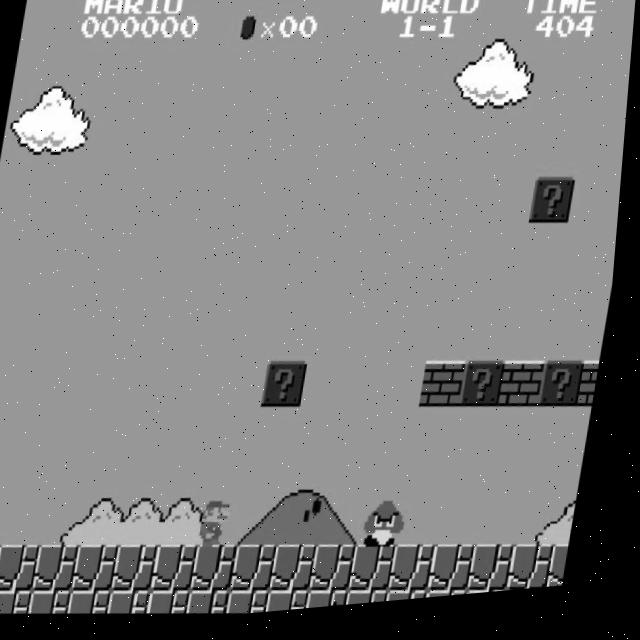1- brick_block: (425, 366, 473, 418), (504, 368, 552, 420), (584, 371, 606, 419)
11- little_mario: (196, 499, 246, 556)
13- mystery_block: (464, 367, 513, 419), (267, 363, 315, 415), (532, 184, 580, 236), (544, 368, 592, 420)
17- undestructible_block: (318, 548, 367, 600), (397, 550, 446, 602), (160, 545, 208, 598), (437, 550, 485, 603), (1, 543, 49, 595), (41, 543, 89, 595), (80, 544, 128, 596), (120, 545, 168, 597), (199, 546, 247, 598), (239, 547, 287, 599), (279, 548, 327, 600), (358, 549, 406, 601), (477, 551, 525, 603), (516, 552, 564, 601), (156, 591, 201, 620), (38, 589, 82, 618), (77, 590, 121, 619), (117, 591, 161, 620), (196, 592, 240, 621), (235, 593, 280, 621), (0, 588, 42, 617), (275, 593, 319, 618), (557, 554, 579, 598), (315, 593, 359, 615), (355, 594, 399, 612), (395, 595, 439, 610), (435, 596, 478, 607), (0, 542, 9, 594), (0, 587, 2, 616)
8- goomba: (367, 502, 417, 559)
